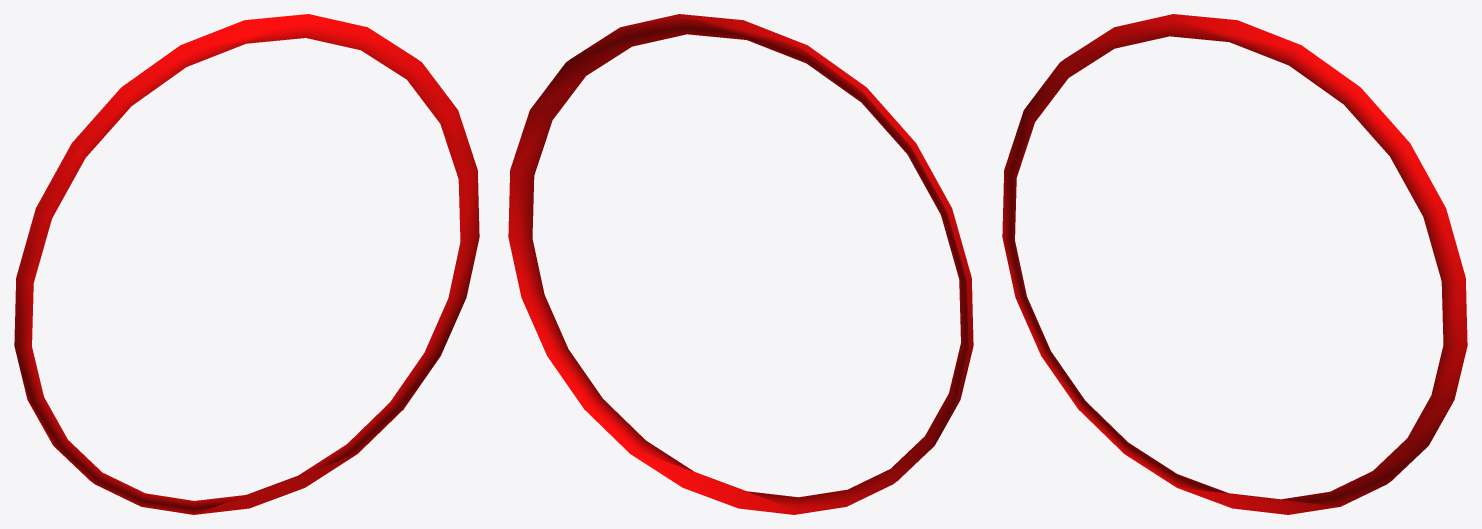
Rendered from original-82.obj.
3 views of the same model, side by side, from view 1: azimuth 30°, elevation 25°; view 2: azimuth 150°, elevation 25°; view 3: azimuth 330°, elevation 25° (orthographic).
Parts seen in each view (by area): view 1: mesh50/mesh50-geometry/material_1/component_2#mesh50-geometry; view 2: mesh50/mesh50-geometry/material_1/component_2#mesh50-geometry; view 3: mesh50/mesh50-geometry/material_1/component_2#mesh50-geometry.
Part boxes in pixels (x1,y1,x2,y2): mesh50/mesh50-geometry/material_1/component_2#mesh50-geometry: (14, 14, 479, 514); mesh50/mesh50-geometry/material_1/component_2#mesh50-geometry: (508, 14, 973, 514); mesh50/mesh50-geometry/material_1/component_2#mesh50-geometry: (1002, 14, 1467, 514).
Bounding box in the file's own units: 0.5475 × 0.5511 × 0.0103.
